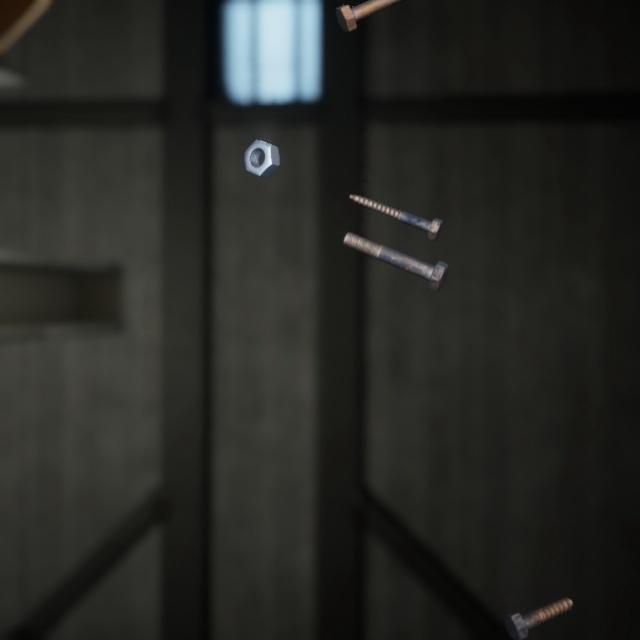bolt: (338, 212, 453, 279), (345, 175, 447, 230), (500, 569, 577, 622), (331, 0, 397, 30)
nut: (240, 121, 284, 168)
